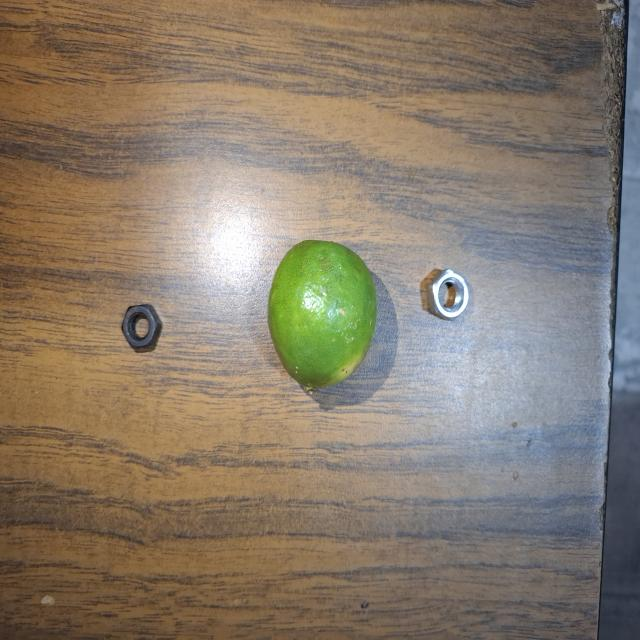limon: (262, 234, 380, 401)
milimetrico: (106, 287, 169, 357)
tuerca: (421, 254, 479, 330)
